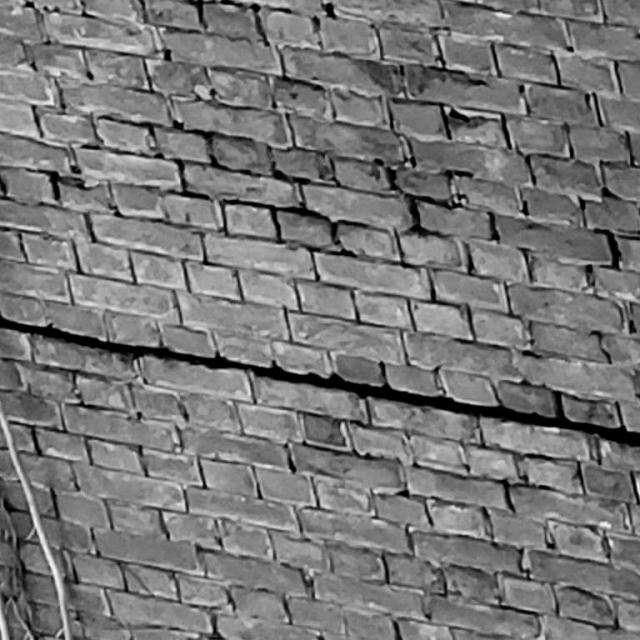crack: (1, 318, 640, 447)
